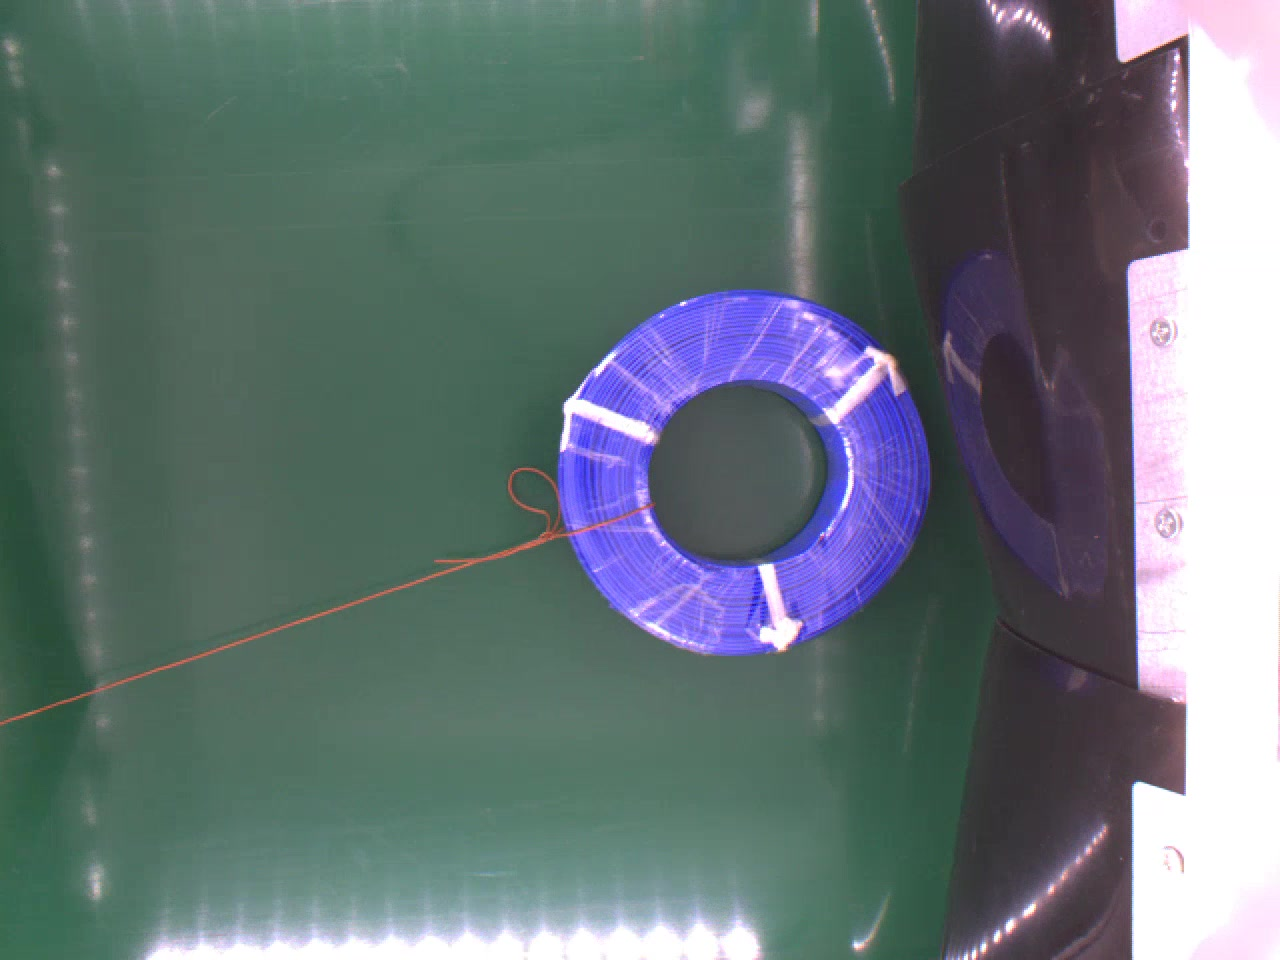blue: (553, 283, 934, 652)
